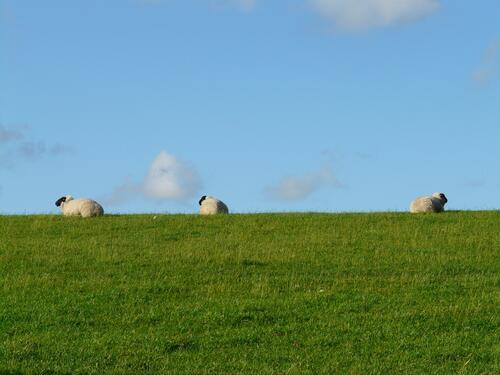sheep: (55, 195, 104, 218), (409, 192, 448, 213), (198, 195, 228, 215)
